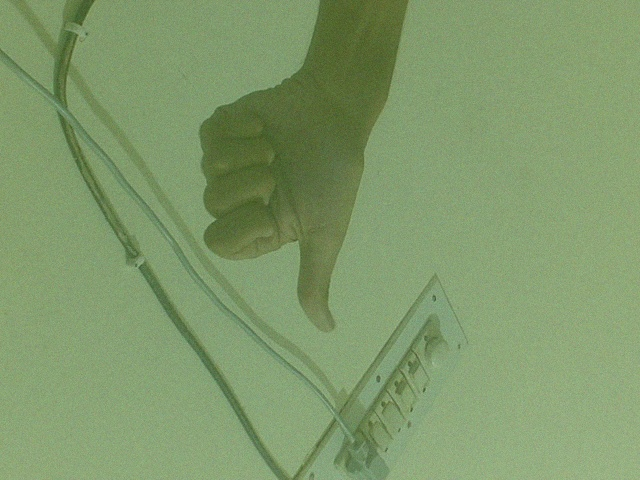hand: (195, 45, 381, 331)
